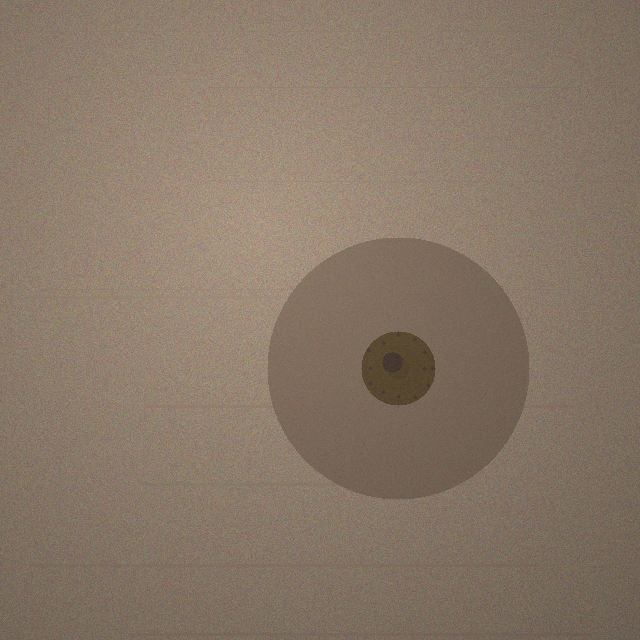cold_weld: (267, 237, 529, 499)
